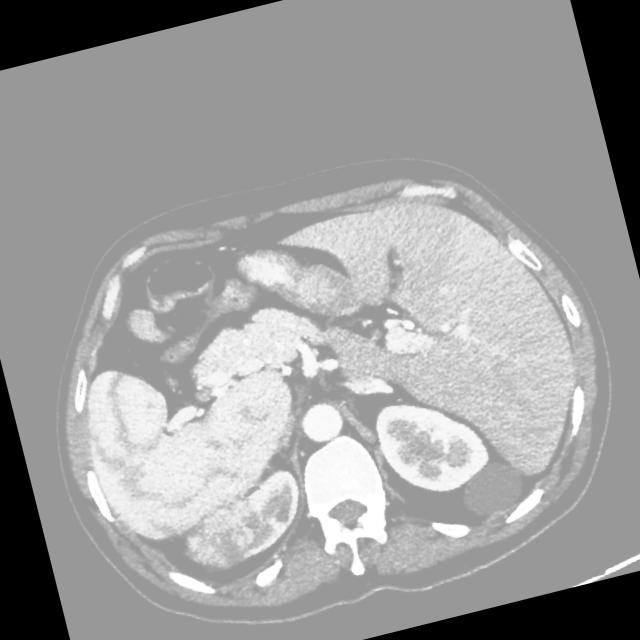TUMOR: (47, 156, 595, 580)
